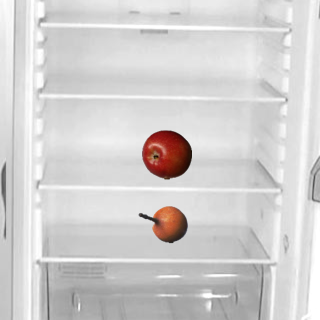Apple Braeburn: (141, 129, 191, 179)
Granadilla: (137, 199, 187, 249)
